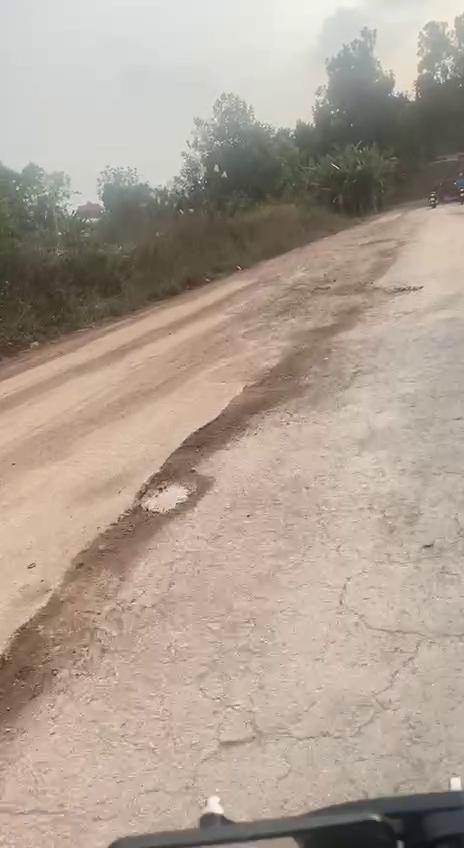pothole: (0, 534, 144, 712), (179, 336, 327, 456), (134, 471, 220, 520)
